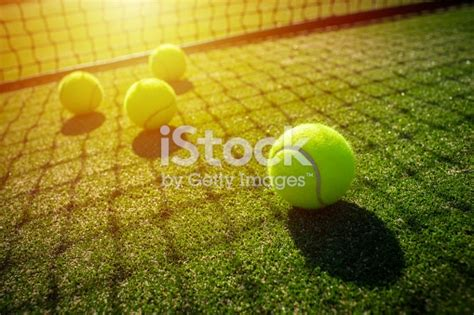tennis_ball: (266, 121, 356, 211), (123, 76, 178, 130), (58, 70, 104, 116), (149, 44, 188, 84)
